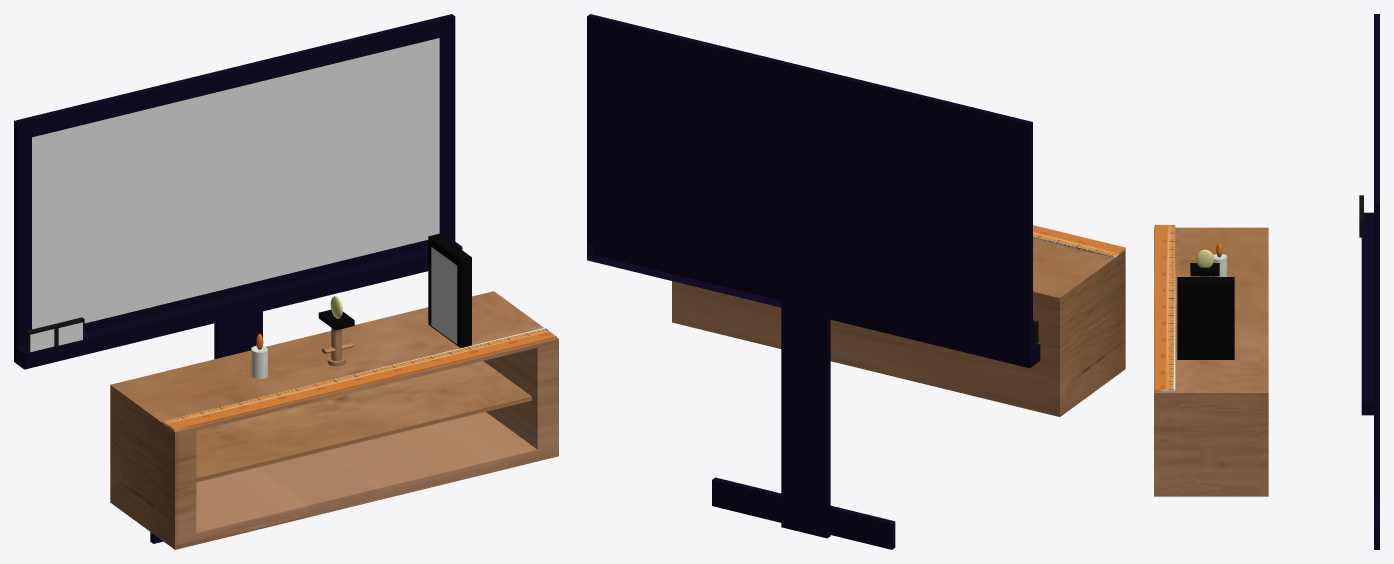
Rendered from convex_lens_flame.gltf.
The picture shows the model from 3 angles, left to right: view 1: azimuth 30°, elevation 25°; view 2: azimuth 150°, elevation 25°; view 3: azimuth 270°, elevation 25°; orthographic projection. The views are drawn at different scales.
Visible parts, largest first — view 1: tvscreen, Table, tv, rack, scale, board, sheet; view 2: tv, Table, scale; view 3: Table, tv, board, scale, lensHolder.
Boxes of the visible parts, x1,y1,x2,y2 form: tvscreen: (32, 38, 439, 329); Table: (110, 291, 558, 549); tv: (14, 14, 462, 543); rack: (196, 361, 531, 482); scale: (162, 327, 556, 431); board: (428, 233, 471, 348); sheet: (431, 247, 457, 344); tv: (587, 14, 1040, 549); Table: (672, 238, 1125, 416); scale: (1033, 225, 1125, 258); Table: (1154, 227, 1268, 496); tv: (1361, 14, 1379, 549); board: (1177, 277, 1234, 359); scale: (1154, 225, 1175, 391); lensHolder: (1190, 263, 1219, 276).
Size of the model in its own units: 15.57 by 15.58 by 7.88.
12 materials, 5 textured.
